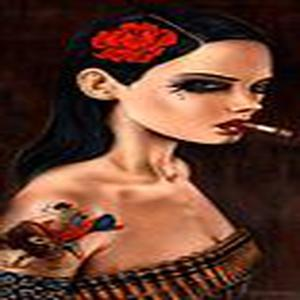cigarette: (237, 120, 295, 139)
